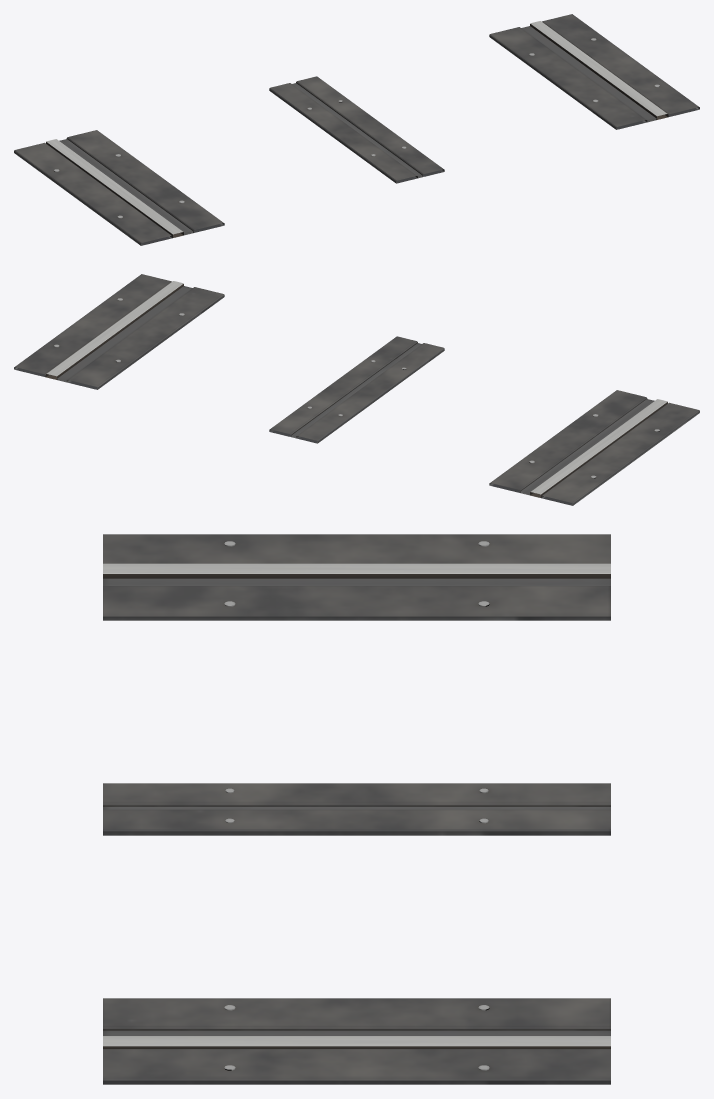
File: Rail_1m.fbx
The picture shows the model from 3 angles, top to bottom: view 1: azimuth 30°, elevation 25°; view 2: azimuth 150°, elevation 25°; view 3: azimuth 270°, elevation 25°; orthographic projection. The views are drawn at different scales.
Visible parts, largest first — view 1: Rail_1m_LOD0; view 2: Rail_1m_LOD0; view 3: Rail_1m_LOD0.
Part boxes in pixels (x1=…): Rail_1m_LOD0: x1=14, y1=14, x2=699, y2=245; Rail_1m_LOD0: x1=14, y1=274, x2=699, y2=505; Rail_1m_LOD0: x1=103, y1=534, x2=610, y2=1084.
Size of what is drawn, in the model's own units: 2.54 by 0.016 by 1.
Materials: 1 (1 with a texture image).
